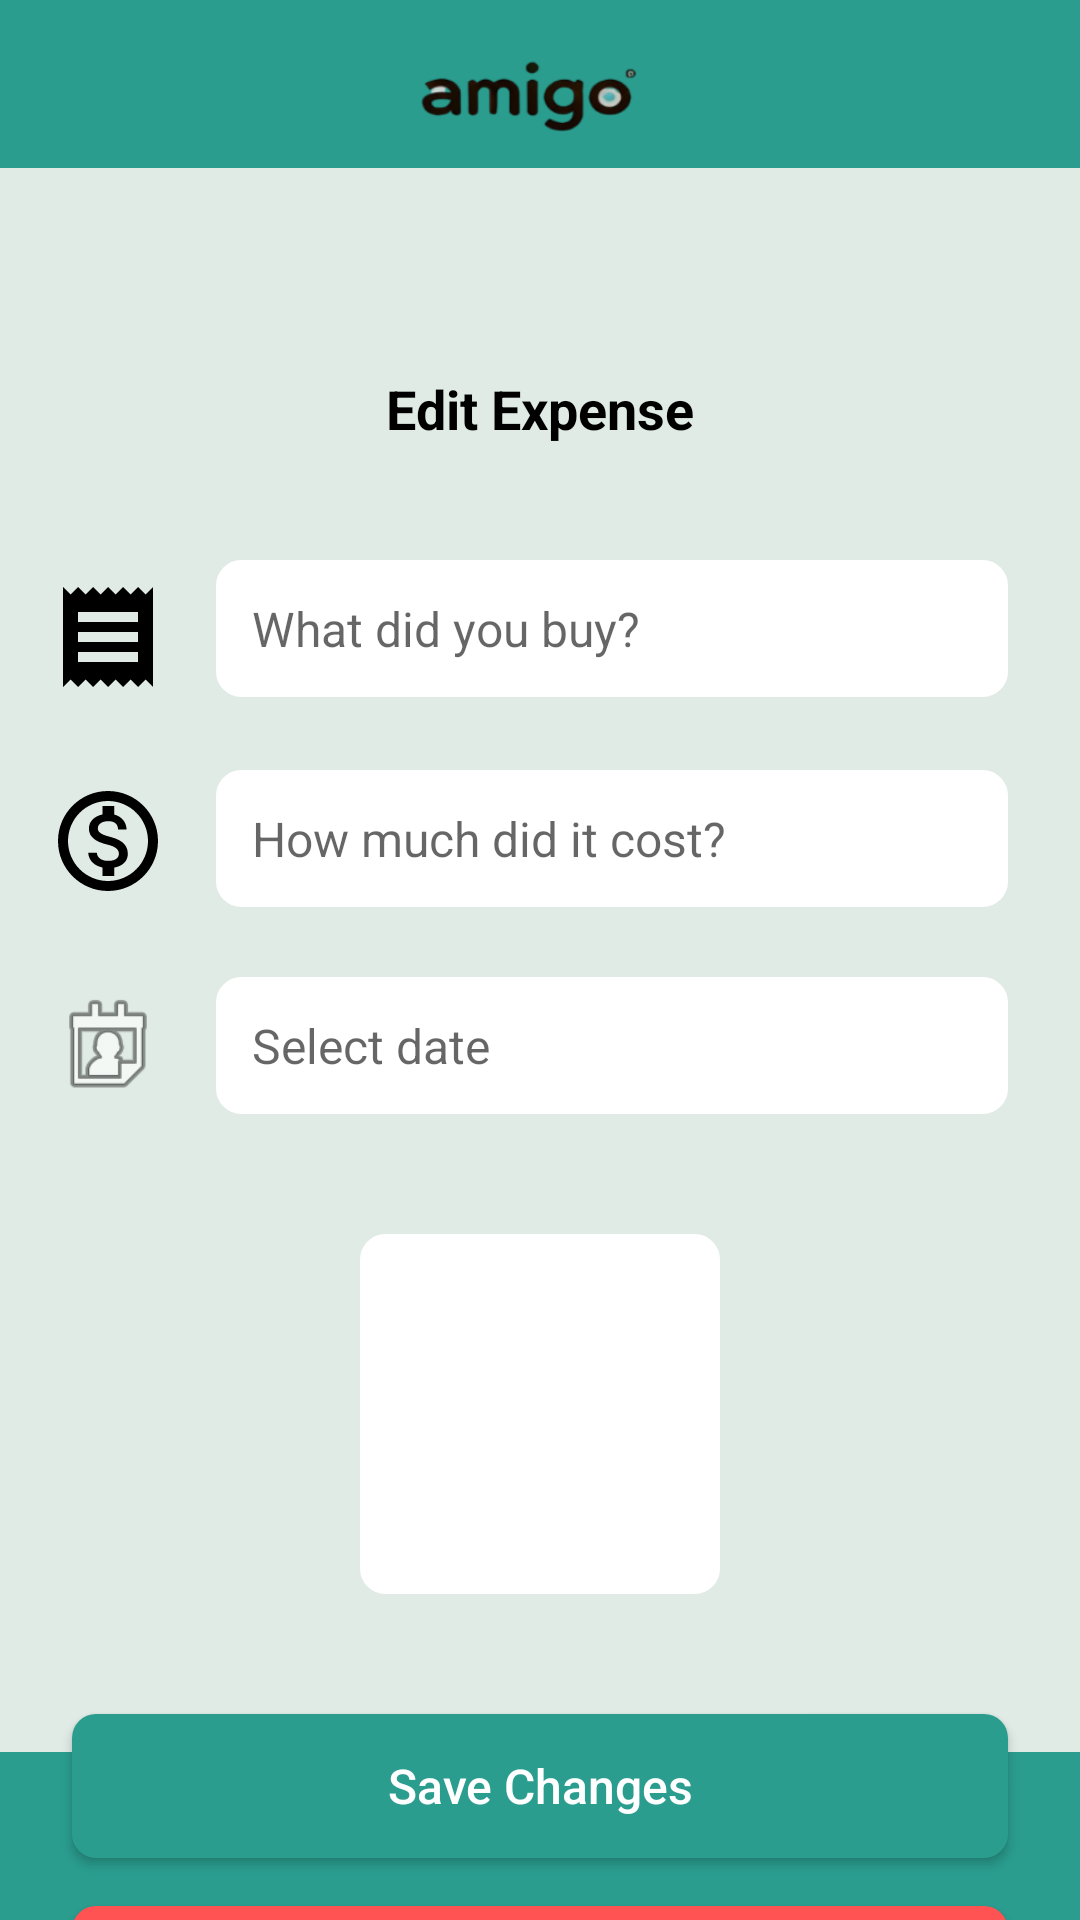

Where to tap for icons on this 1080 x 1920 app screen, as (x=x, y=y):
amount: (x=108, y=841)
recipt: (x=108, y=637)
